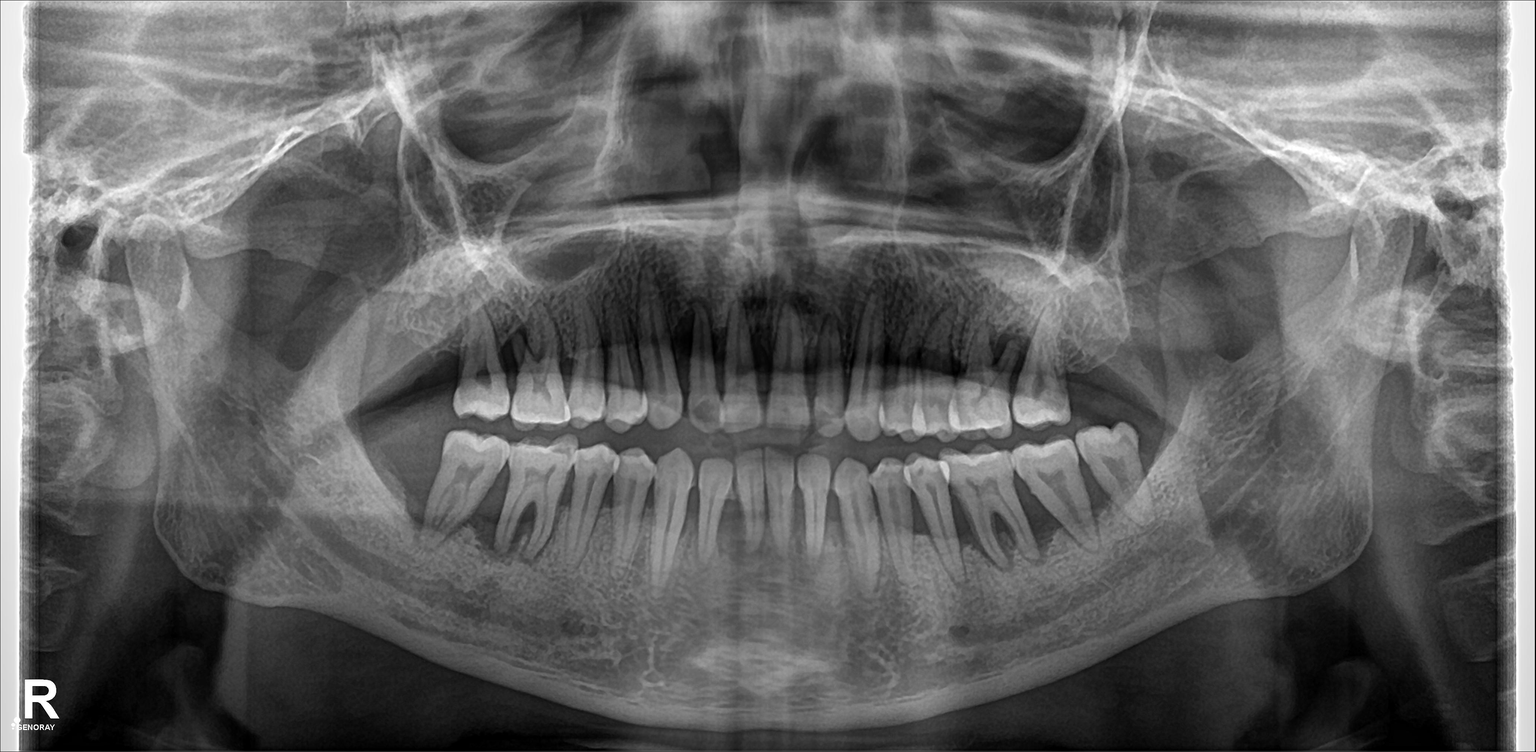Dental Caries: (687, 395, 724, 426)
Missing Tooth: (1067, 285, 1129, 393), (395, 307, 451, 417), (378, 434, 426, 526)
